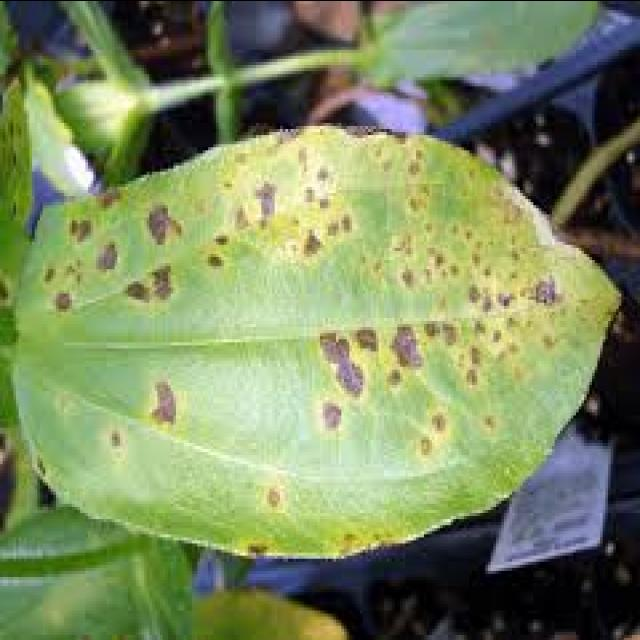bercak_daun: (17, 114, 623, 574)
